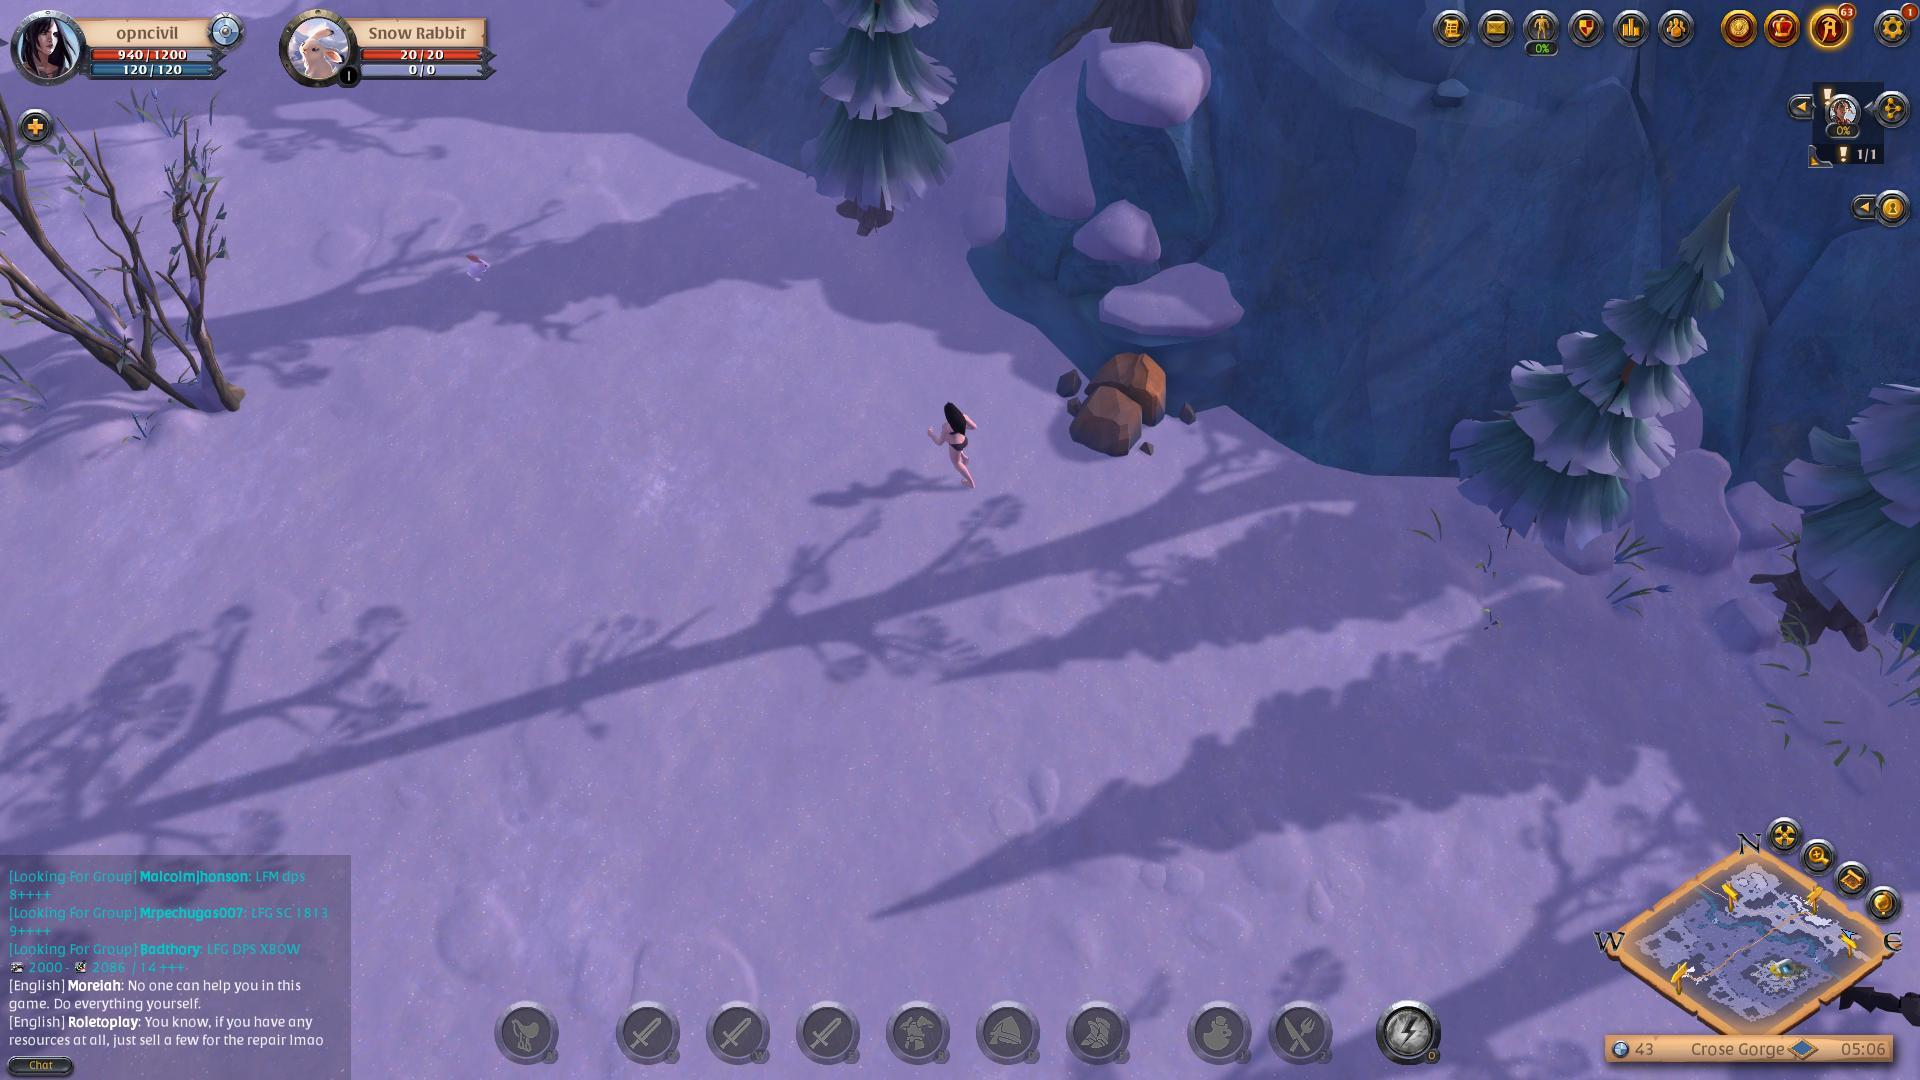limestone: (1047, 345, 1189, 467)
